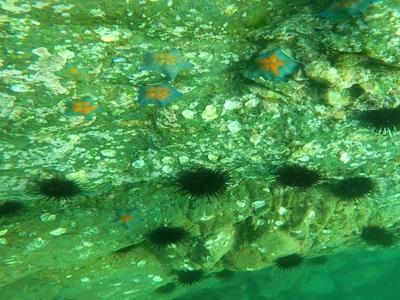scallop: (50, 227, 69, 237)
urchin: (177, 167, 226, 195), (276, 163, 316, 190), (359, 100, 392, 132), (41, 177, 75, 200), (149, 226, 186, 246), (367, 224, 395, 247), (336, 177, 369, 196), (4, 199, 35, 217), (276, 256, 300, 270), (179, 271, 203, 283)
